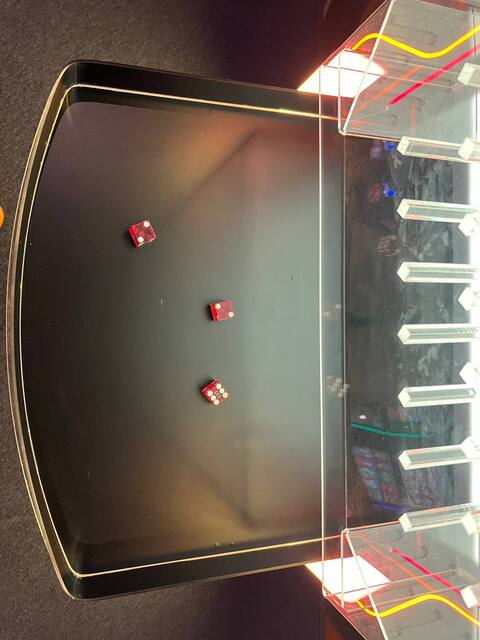six: (200, 379, 231, 408)
two: (126, 218, 157, 246), (209, 298, 237, 323)
